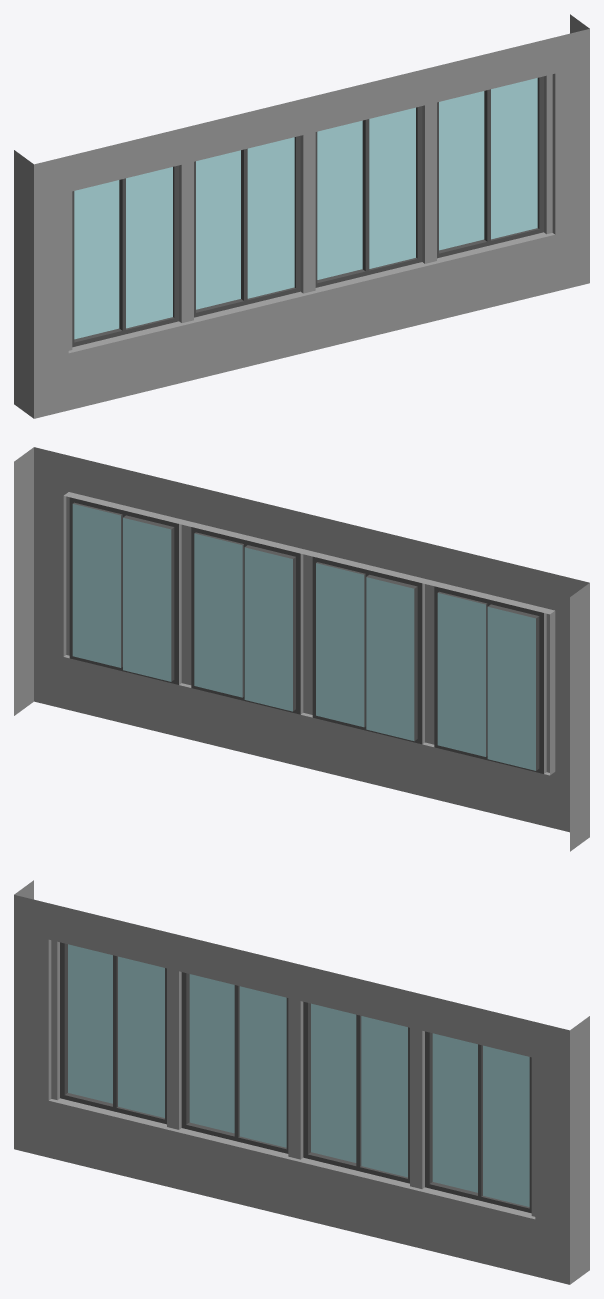
Rendered from QuadStraightWindow.fbx.
3 views of the same model, one above another, from view 1: azimuth 30°, elevation 25°; view 2: azimuth 150°, elevation 25°; view 3: azimuth 330°, elevation 25° (orthographic).
Parts seen in each view (by area): view 1: QuadStraightWindow; view 2: QuadStraightWindow; view 3: QuadStraightWindow.
Part boxes in pixels (x1,y1,x2,y2): QuadStraightWindow: [14, 14, 589, 418]; QuadStraightWindow: [14, 447, 589, 851]; QuadStraightWindow: [14, 880, 589, 1284].
Size of the model in its own units: 800 by 350 by 50.
